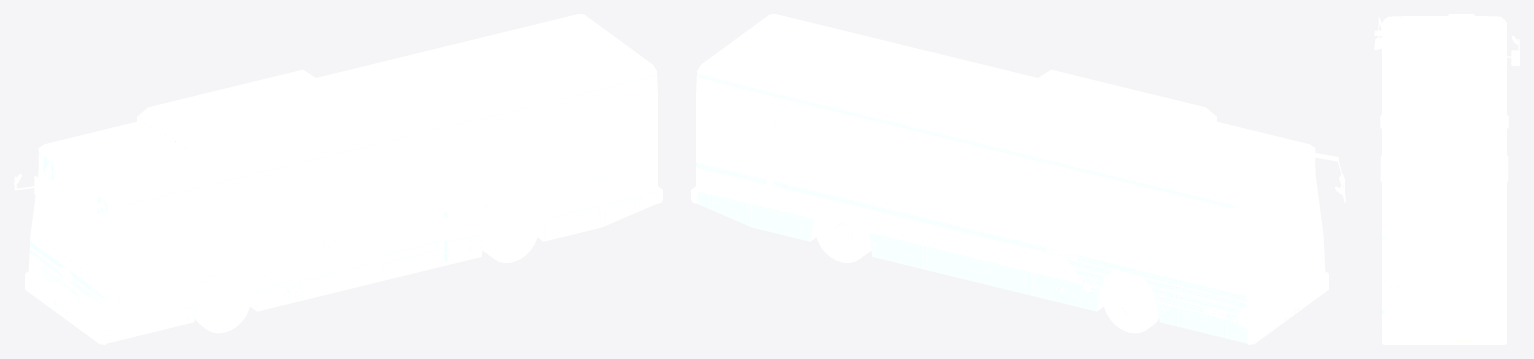
File: bus.glb
3 views of the same model, side by side, from view 1: azimuth 30°, elevation 25°; view 2: azimuth 150°, elevation 25°; view 3: azimuth 270°, elevation 25° (orthographic). The views are drawn at different scales.
Bounding box in the file's own units: 10.88 × 3.11 × 2.9.
1 material, 1 textured.
